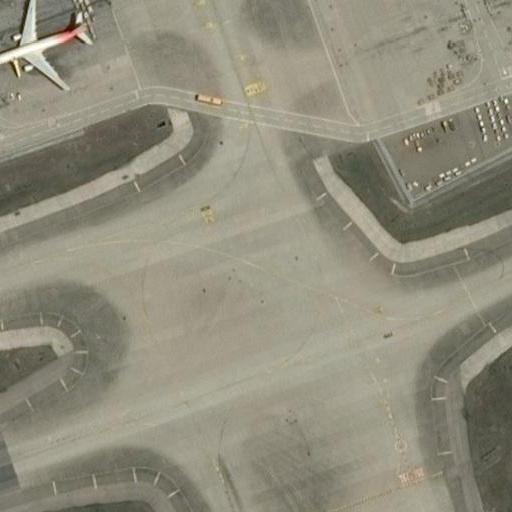Aircraft: (0, 0, 95, 92), (0, 0, 94, 92)
